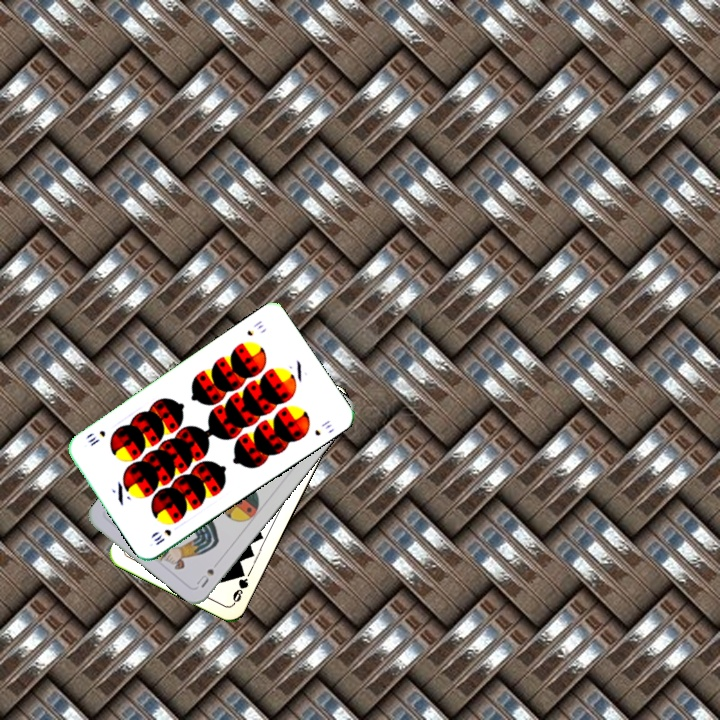G9: (228, 566, 251, 607)
S10: (150, 525, 174, 548), (243, 316, 266, 339)
SU: (192, 564, 217, 590)
